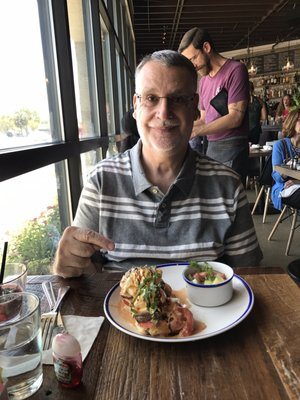pizza: (1, 262, 28, 295)
sushi: (182, 260, 234, 307)
